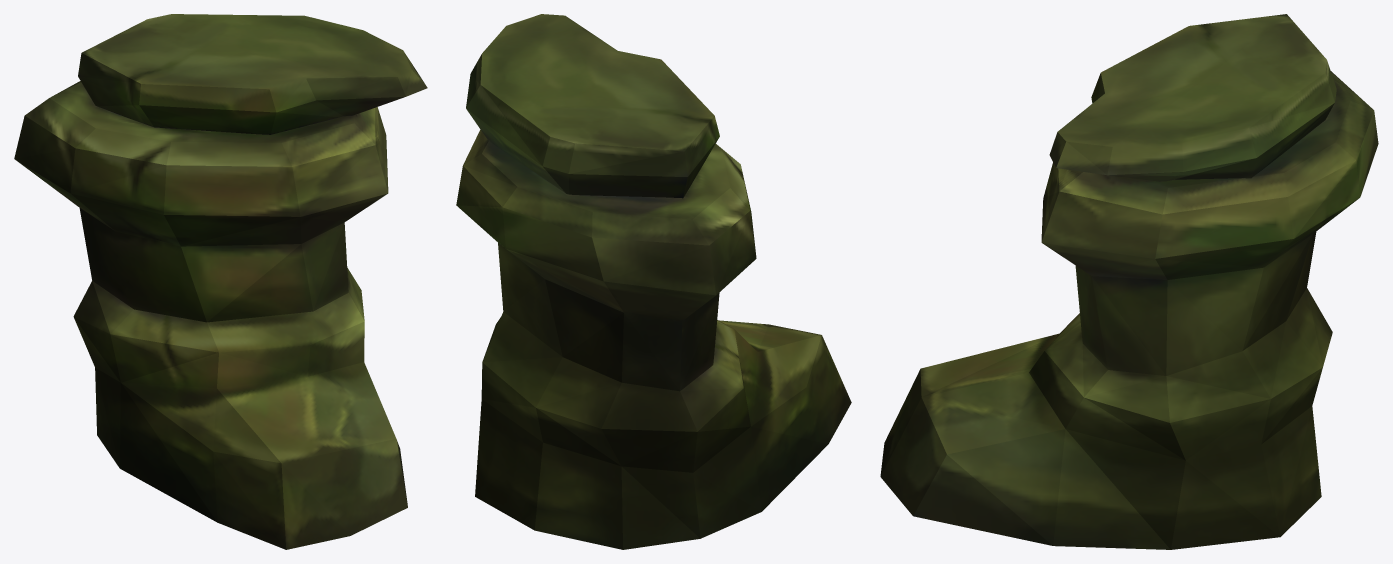
Rendered from Swamp_shitou11.FBX.
The picture shows the model from 3 angles, left to right: view 1: azimuth 30°, elevation 25°; view 2: azimuth 150°, elevation 25°; view 3: azimuth 270°, elevation 25°; orthographic projection. The views are drawn at different scales.
Visible parts, largest first — view 1: shitou11; view 2: shitou11; view 3: shitou11.
Boxes of the visible parts, x1,y1,x2,y2 form: shitou11: (14, 14, 427, 549); shitou11: (456, 14, 851, 549); shitou11: (880, 14, 1378, 549).
Size of the model in its own units: 136 by 160 by 174.
